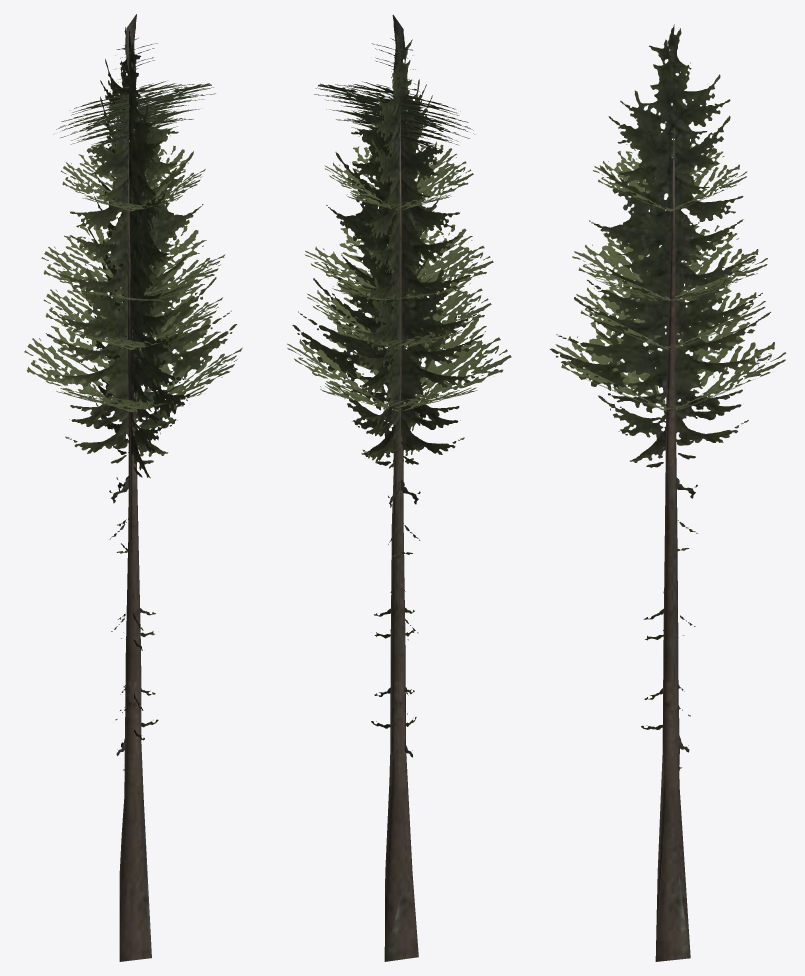
Rendered from Background_Tree_Atlas_006_alt.glb.
The picture shows the model from 3 angles, left to right: view 1: azimuth 30°, elevation 25°; view 2: azimuth 150°, elevation 25°; view 3: azimuth 270°, elevation 25°; orthographic projection.
Parts seen in each view (by area): view 1: Background_Tree_Atlas.006; view 2: Background_Tree_Atlas.006; view 3: Background_Tree_Atlas.006.
Boxes of the visible parts, bbox=[...] form: Background_Tree_Atlas.006: bbox=[24, 14, 242, 961]; Background_Tree_Atlas.006: bbox=[287, 14, 511, 961]; Background_Tree_Atlas.006: bbox=[550, 24, 785, 961].
Size of the model in its own units: 610 by 2578 by 607.
1 material, 1 textured.
